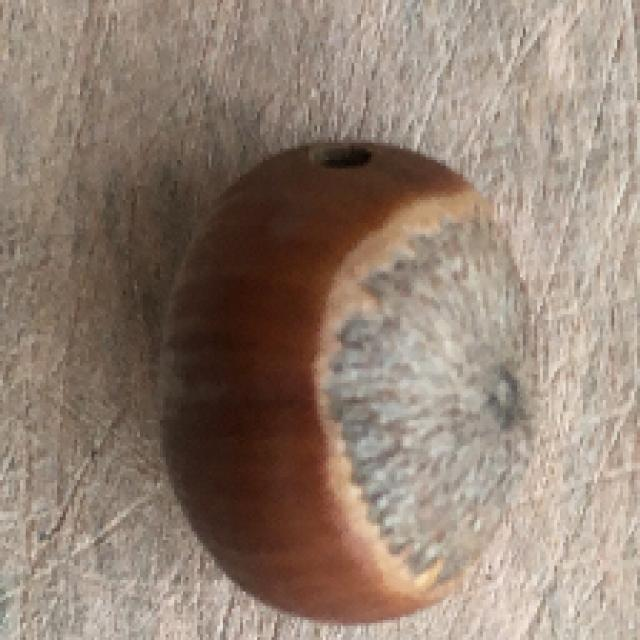DamagedHazelnut: (156, 139, 544, 630)
